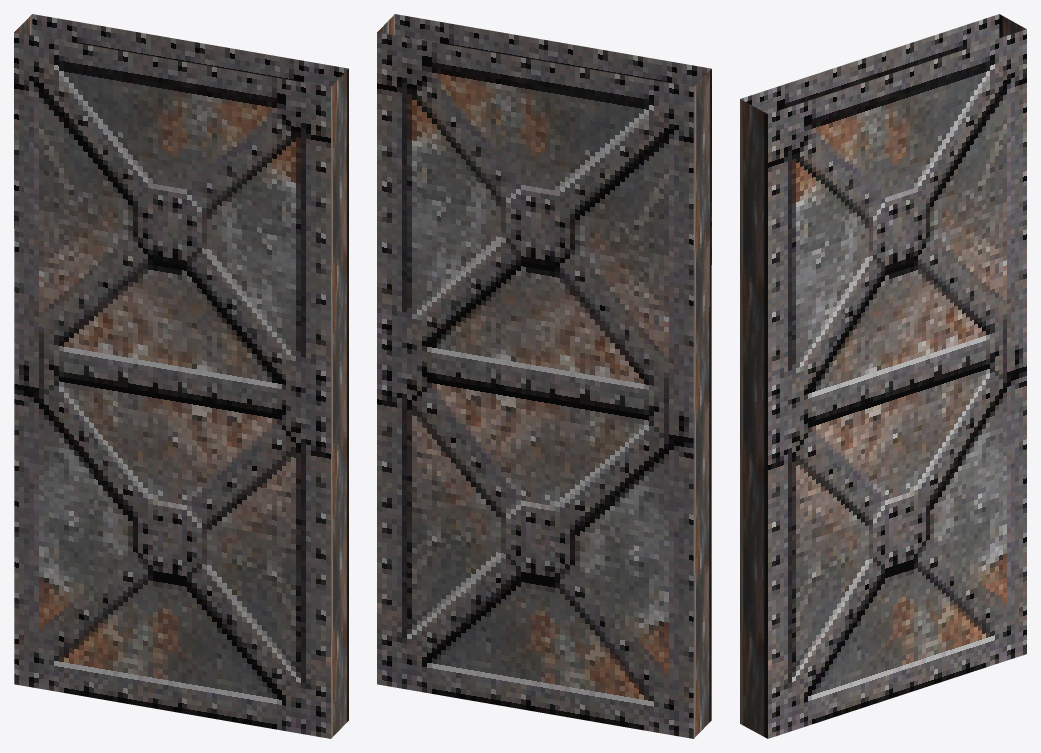
File: archives_metal_door_3.glb
3 views of the same model, side by side, from view 1: azimuth 30°, elevation 25°; view 2: azimuth 210°, elevation 25°; view 3: azimuth 270°, elevation 25° (orthographic). The views are drawn at different scales.
Parts seen in each view (by area): view 1: Object; view 2: Object; view 3: Object.
Part boxes in pixels (<box>): Object: <box>14,14,348,738</box>; Object: <box>377,14,711,738</box>; Object: <box>740,14,1026,738</box>.
Size of the model in its own units: 1 by 2.92 by 1.22.
9 materials, 9 textured.
